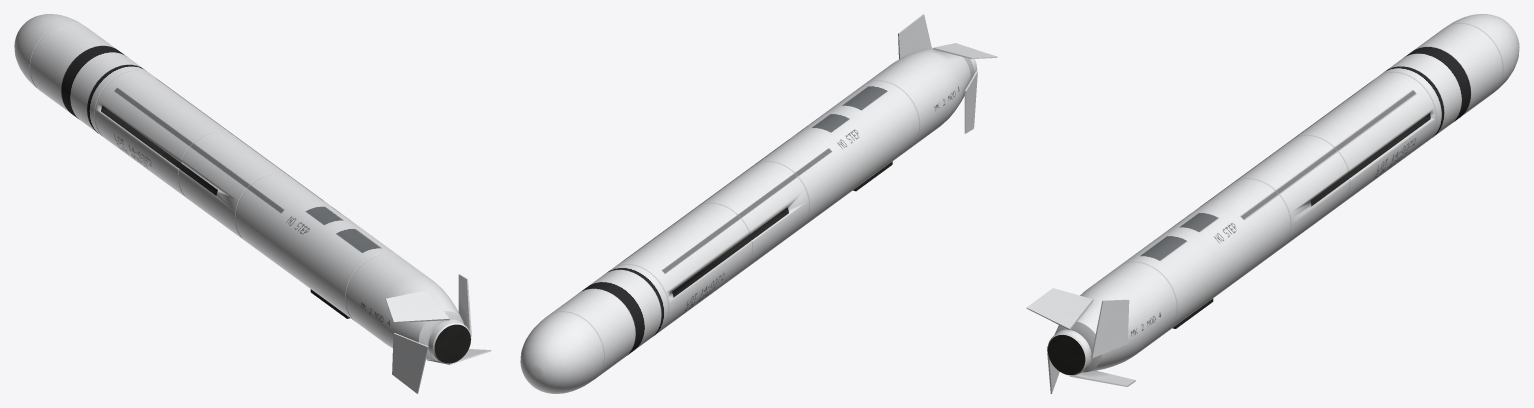
File: tlam.glb
The picture shows the model from 3 angles, left to right: view 1: azimuth 30°, elevation 25°; view 2: azimuth 150°, elevation 25°; view 3: azimuth 330°, elevation 25°; orthographic projection. The views are drawn at different scales.
Parts seen in each view (by area): view 1: TH_body, fin4, fin1, fin2; view 2: TH_body, fin2, fin4, fin1; view 3: TH_body, fin2, fin1, fin3.
Boxes of the visible parts, x1,y1,x2,y2 form: TH_body: (14,14,471,363); fin4: (392,333,428,393); fin1: (385,290,449,322); fin2: (458,274,471,336); TH_body: (520,48,977,393); fin2: (898,14,931,59); fin4: (964,71,977,133); fin1: (933,43,997,59); TH_body: (1047,14,1519,375); fin2: (1091,299,1129,358); fin1: (1026,288,1093,330); fin3: (1069,370,1135,386).
Bounding box in the file's own units: 0.7422 × 0.7422 × 5.56.
Materials: 3 (3 with a texture image).
